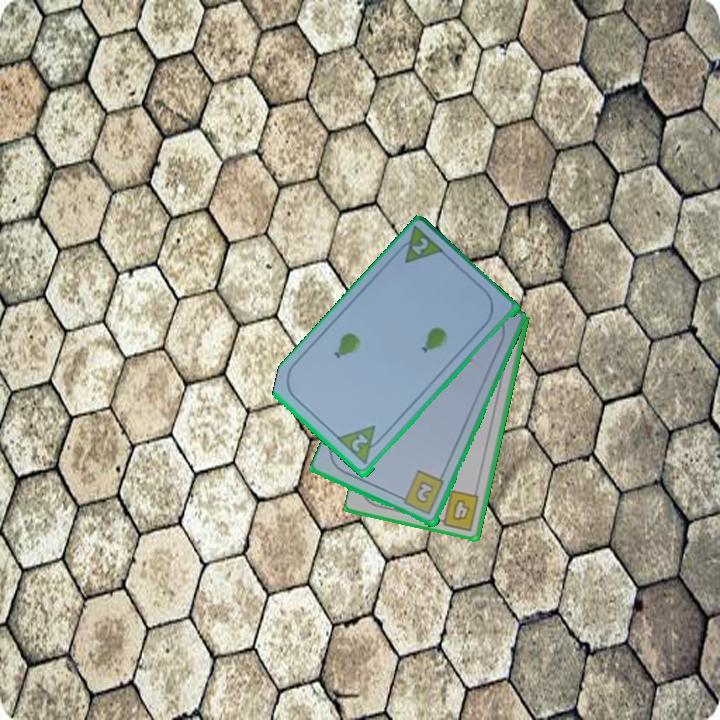2b: (395, 468, 447, 518)
2p: (348, 431, 371, 455), (408, 234, 431, 258)
4b: (433, 486, 482, 534)
